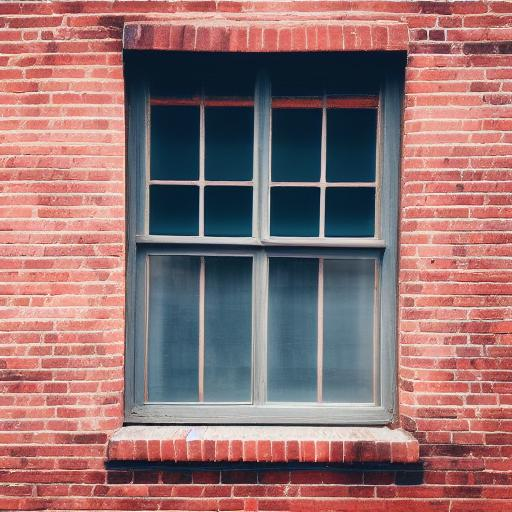Window: (108, 20, 423, 464)
